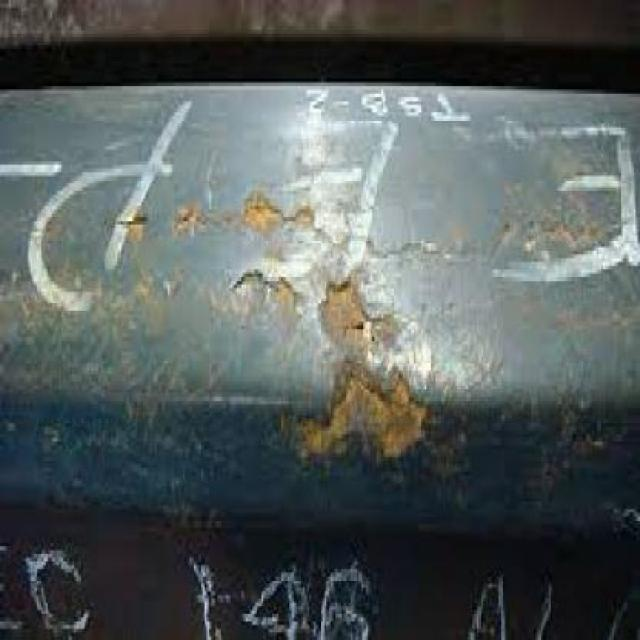defective: (6, 59, 640, 607)
